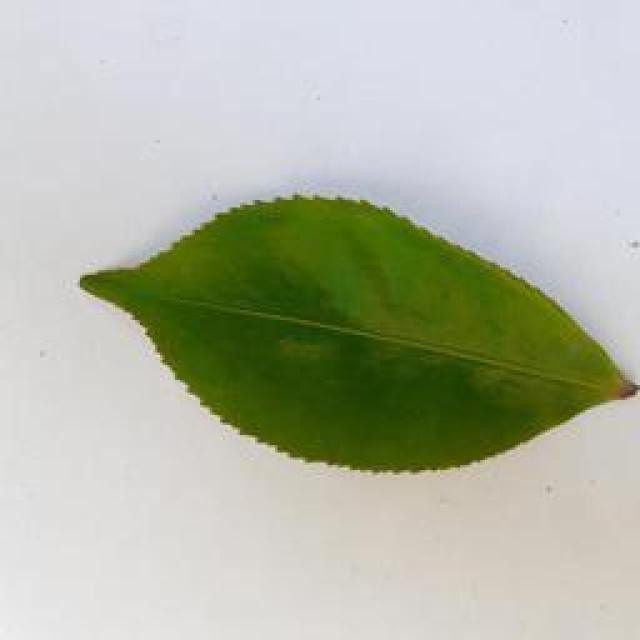Healthy: (70, 189, 635, 469)
